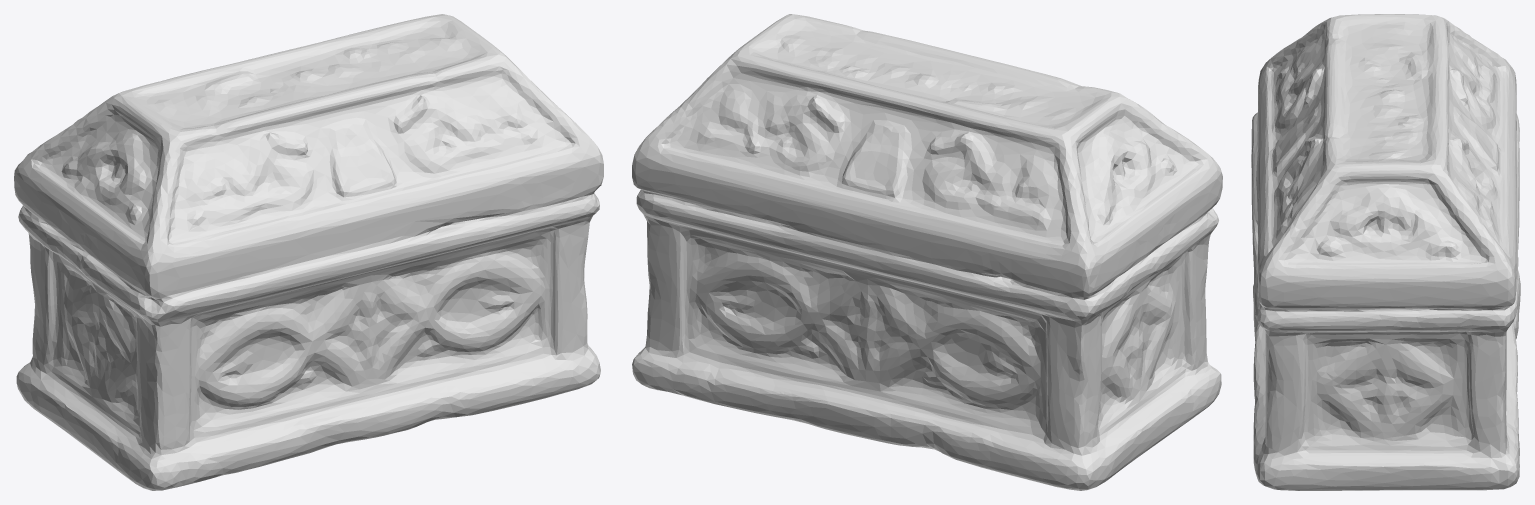
The model's file is sarcophagus01.glb.
The picture shows the model from 3 angles, left to right: view 1: azimuth 30°, elevation 25°; view 2: azimuth 150°, elevation 25°; view 3: azimuth 270°, elevation 25°; orthographic projection. The views are drawn at different scales.
Parts seen in each view (by area): view 1: Low; view 2: Low; view 3: Low.
Boxes of the visible parts, box(x1,y1,x2,y2) form: Low: box(14, 14, 603, 490); Low: box(632, 14, 1222, 490); Low: box(1251, 14, 1520, 490).
Size of the model in its own units: 1.99 by 1.32 by 1.07.
1 material, 1 textured.
